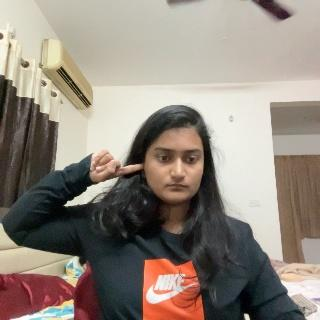Deaf: (83, 148, 146, 181)
Face: (144, 104, 204, 202)
